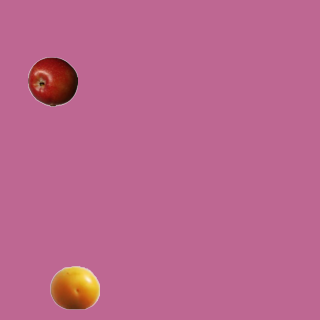Apple Braeburn: (27, 56, 77, 106)
Cherry Wax Yellow: (49, 262, 99, 312)
